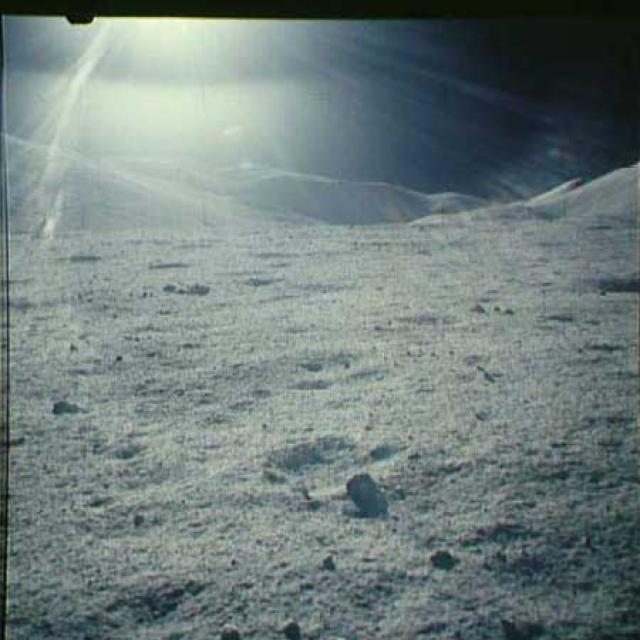crater: (262, 440, 350, 472), (288, 366, 394, 390), (395, 310, 465, 328), (592, 274, 638, 296)
rock: (341, 471, 384, 504)
